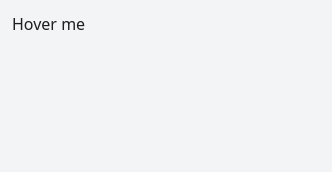
Test: HoverCard Components › HoverCard Interactions › should show content on hover
This screenshot has width=332, height=172.
Hover over the link "Hover me": [49, 24] box [12,13,85,35]
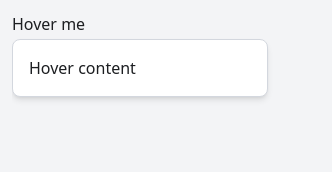
Expected: the text "Hover content" is shown, [12,39,268,97]
